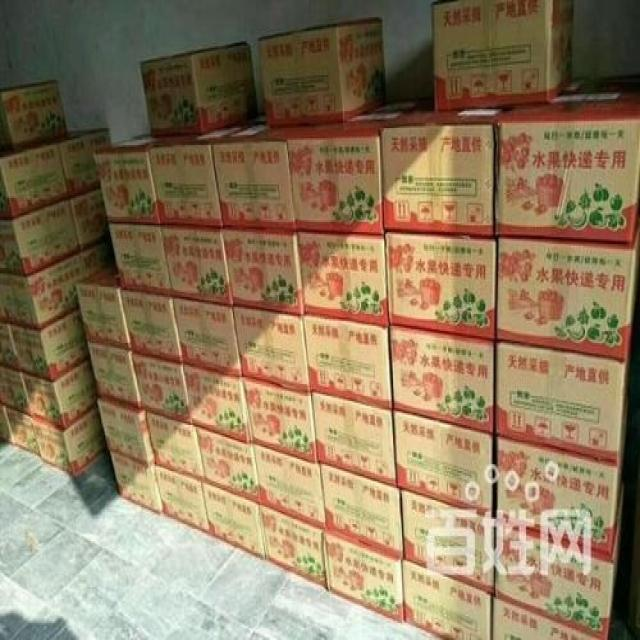box: (494, 87, 640, 239), (495, 237, 640, 360), (381, 104, 509, 237), (497, 340, 628, 469), (431, 0, 573, 111), (288, 106, 408, 234), (497, 435, 621, 556), (257, 15, 387, 130), (492, 519, 614, 640), (384, 225, 497, 340), (389, 326, 498, 435), (140, 39, 256, 135), (148, 119, 253, 225), (393, 408, 493, 517), (401, 486, 494, 596), (212, 121, 302, 230), (296, 229, 388, 328), (303, 314, 394, 408), (308, 393, 399, 486), (320, 463, 403, 560), (95, 133, 180, 224), (324, 529, 403, 625), (402, 558, 493, 640), (223, 225, 303, 316), (242, 375, 320, 463), (233, 304, 310, 393), (0, 254, 86, 328), (10, 307, 91, 384), (252, 444, 324, 529), (0, 200, 81, 275), (260, 503, 328, 591), (22, 357, 100, 432), (32, 403, 109, 478), (161, 224, 233, 302), (182, 364, 252, 444), (172, 295, 242, 375), (0, 138, 70, 218), (202, 480, 266, 560), (196, 425, 260, 505), (0, 79, 68, 150), (492, 597, 602, 640), (76, 266, 131, 352), (109, 220, 172, 295), (122, 288, 182, 365), (131, 353, 193, 427), (49, 128, 113, 196), (145, 408, 202, 481), (99, 396, 156, 468), (154, 466, 211, 534), (88, 341, 145, 408), (110, 452, 164, 514), (70, 186, 111, 254), (5, 408, 40, 457), (0, 365, 31, 416), (81, 237, 118, 276), (562, 75, 640, 90), (0, 321, 20, 374), (375, 97, 435, 111), (0, 404, 13, 444)
